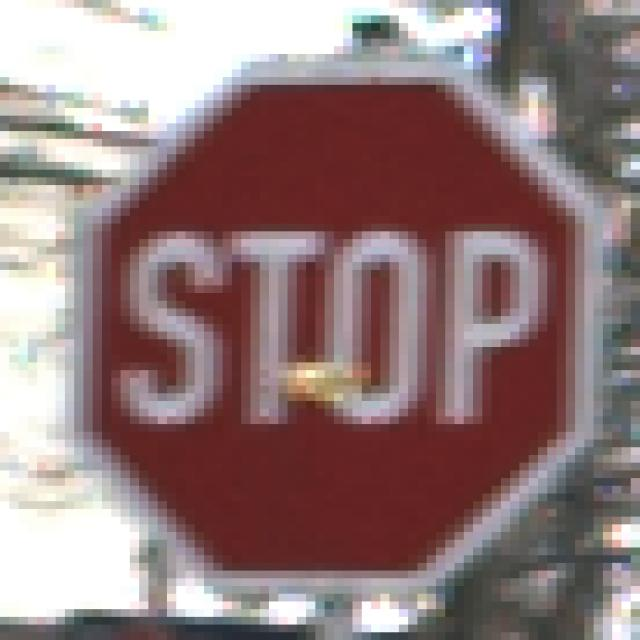STOP: (66, 55, 585, 579)
